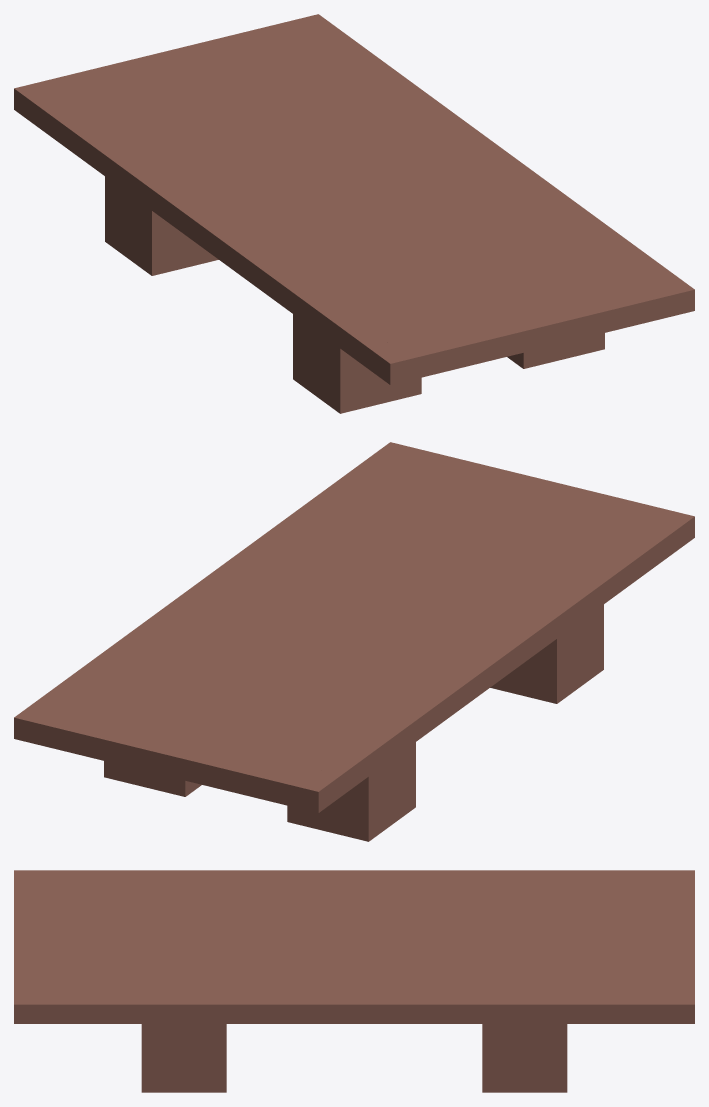
File: woodenTable.fbx
The picture shows the model from 3 angles, top to bottom: view 1: azimuth 30°, elevation 25°; view 2: azimuth 150°, elevation 25°; view 3: azimuth 270°, elevation 25°; orthographic projection. The views are drawn at different scales.
Parts seen in each view (by area): view 1: cube_34, cube_43, cube_30, cube_35, cube_36, cube_32, cube_41, cube_31, cube_39, cube_56, cube_33, cube_38 (+25 smaller); view 2: cube_43, cube_34, cube_42, cube_46, cube_48, cube_47, cube_53, cube_44, cube_59, cube_51, cube_45, cube_57 (+25 smaller); view 3: cube_56, cube_59, cube_30, cube_31, cube_32, cube_33, cube_34, cube_35, cube_36, cube_37, cube_38, cube_39 (+22 smaller).
Boxes of the visible parts, x1,y1,x2,y2 form: cube_34: (202,221,410,384); cube_43: (14,83,222,246); cube_30: (223,216,430,379); cube_35: (304,196,512,360); cube_36: (345,186,553,350); cube_32: (263,206,471,369); cube_41: (386,176,593,340); cube_31: (243,211,451,375); cube_39: (406,171,614,335); cube_56: (486,152,694,315); cube_33: (284,201,492,365); cube_38: (365,181,573,345); cube_43: (298,649,506,812); cube_34: (486,511,694,674); cube_42: (278,644,485,807); cube_46: (196,624,404,788); cube_48: (155,614,363,778); cube_47: (237,634,445,797); cube_53: (115,604,322,768); cube_44: (257,639,465,803); cube_59: (14,580,222,743); cube_51: (94,599,302,763); cube_45: (216,629,424,793); cube_57: (34,585,242,748); cube_56: (14,995,354,1023); cube_59: (354,995,694,1023); cube_30: (14,879,354,888); cube_31: (14,888,354,897); cube_32: (14,897,354,906); cube_33: (14,906,354,915); cube_34: (14,870,354,879); cube_35: (14,915,354,924); cube_36: (14,933,354,942); cube_37: (14,924,354,933); cube_38: (14,942,354,951); cube_39: (14,960,354,969).
Size of the model in its own units: 187 by 62.5 by 400.
Materials: 2 (2 with a texture image).
